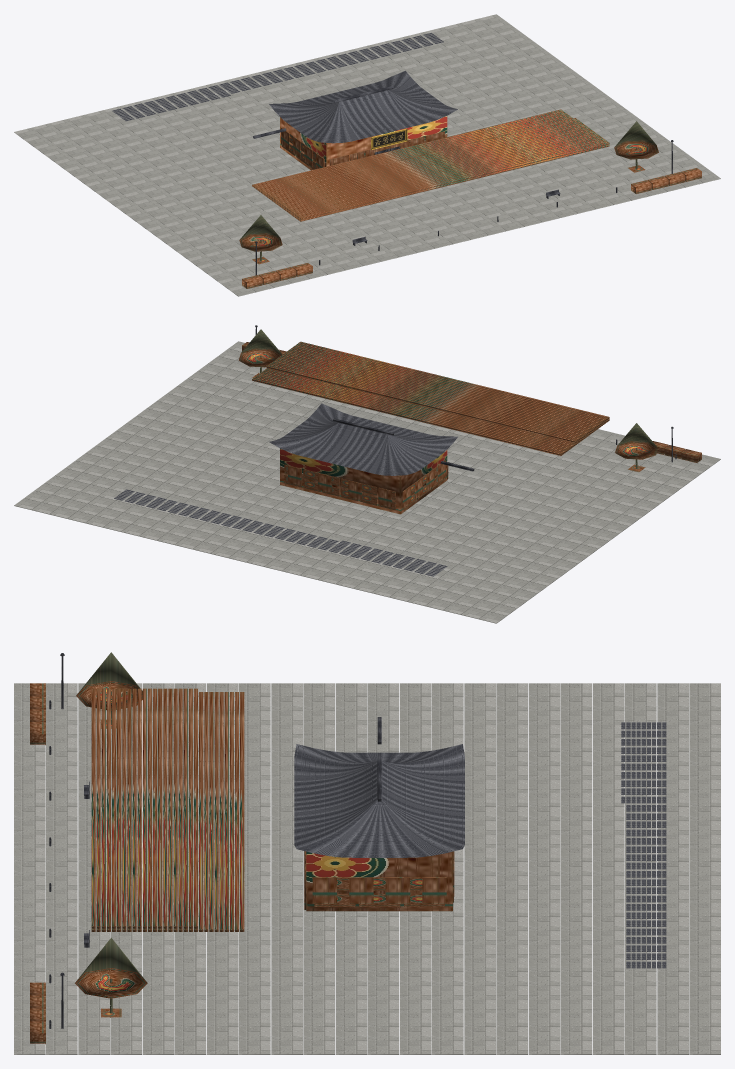
3 renders of one model, top to bottom at view 1: azimuth 30°, elevation 25°; view 2: azimuth 150°, elevation 25°; view 3: azimuth 270°, elevation 25°, orthographic. The views are drawn at different scales.
Parts seen in each view (by area): view 1: 11680_01_06383_047_01__plinth_ground_base, 11680_01_06383_047_02__mass_body_facade, 11680_01_06383_047_03__roof_deck_structure, 11680_01_06383_047_06__landscape_greenery, 11680_01_06383_047_05__window_sash_glass; view 2: 11680_01_06383_047_01__plinth_ground_base, 11680_01_06383_047_02__mass_body_facade, 11680_01_06383_047_03__roof_deck_structure, 11680_01_06383_047_06__landscape_greenery; view 3: 11680_01_06383_047_01__plinth_ground_base, 11680_01_06383_047_02__mass_body_facade, 11680_01_06383_047_03__roof_deck_structure, 11680_01_06383_047_06__landscape_greenery, 11680_01_06383_047_05__door_hardware_iron.
Part boxes in pixels (x1,y1,x2,y2): 11680_01_06383_047_01__plinth_ground_base: (14,14,720,296); 11680_01_06383_047_02__mass_body_facade: (252,109,609,221); 11680_01_06383_047_03__roof_deck_structure: (112,33,457,143); 11680_01_06383_047_06__landscape_greenery: (239,121,701,288); 11680_01_06383_047_05__window_sash_glass: (329,131,444,165); 11680_01_06383_047_01__plinth_ground_base: (14,341,720,623); 11680_01_06383_047_02__mass_body_facade: (252,341,609,514); 11680_01_06383_047_03__roof_deck_structure: (114,403,457,576); 11680_01_06383_047_06__landscape_greenery: (238,329,701,472); 11680_01_06383_047_01__plinth_ground_base: (14,683,720,1054); 11680_01_06383_047_02__mass_body_facade: (91,688,454,931); 11680_01_06383_047_03__roof_deck_structure: (294,722,666,968); 11680_01_06383_047_06__landscape_greenery: (30,652,147,1043); 11680_01_06383_047_05__door_hardware_iron: (49,653,89,1028).
Size of the model in its own units: 71.95 by 8.45 by 57.95.
Materials: 7 (7 with a texture image).
